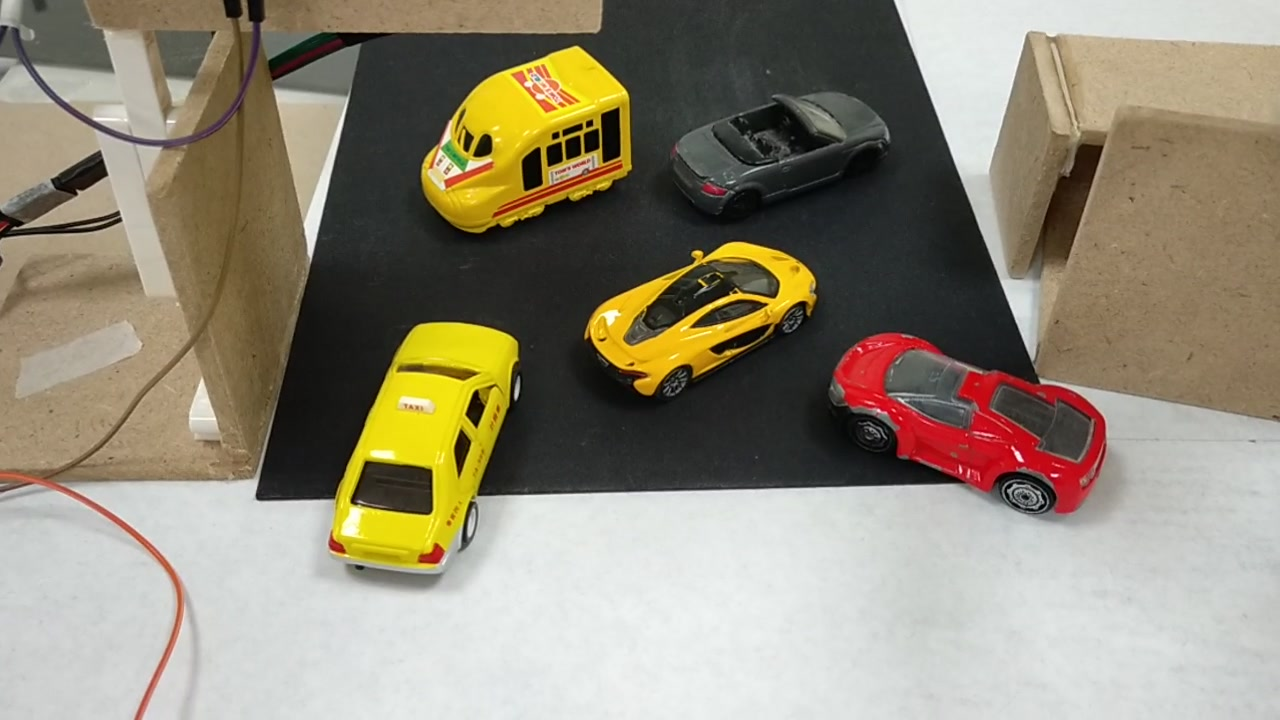car: (827, 327, 1104, 519), (330, 322, 530, 566), (586, 261, 816, 397), (669, 80, 890, 214)
